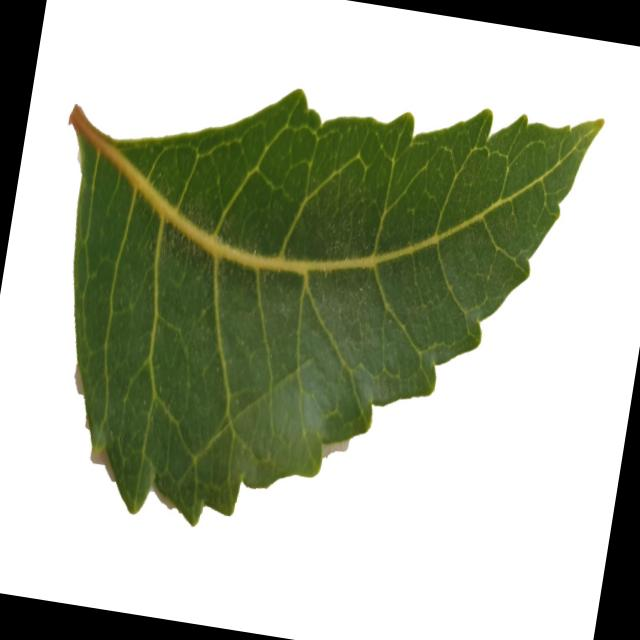Medicinal-Neem: (3, 32, 608, 581)
